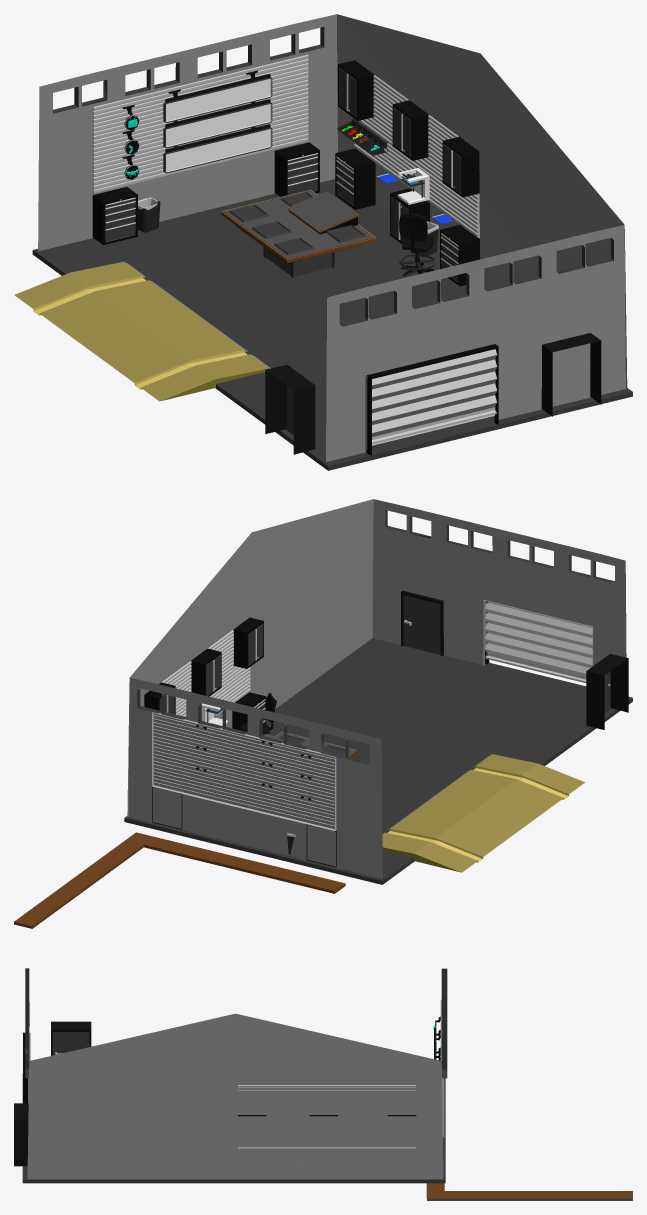
The model's file is Workshop_inside.FBX.
3 renders of one model, top to bottom at view 1: azimuth 30°, elevation 25°; view 2: azimuth 150°, elevation 25°; view 3: azimuth 270°, elevation 25°, orthographic. The views are drawn at different scales.
Parts seen in each view (by area): view 1: Object001, Workshop, Box009, Box004, Object002, Box036, Box037, Box035, Box016, Box022, Box011, Box013 (+10 smaller); view 2: Object001, Workshop, Box009, Box015, Box004, Box013, Box003, Box012; view 3: Object001, Workshop, Box015, Box004.
Boxes of the visible parts, x1,y1,x2,y2 form: Object001: (38,14,627,461); Workshop: (14,179,632,470); Box009: (93,54,308,193); Box004: (354,75,479,238); Object002: (221,189,376,263); Box036: (163,99,272,148); Box037: (163,124,272,173); Box035: (163,74,272,122); Box016: (92,187,137,244); Box022: (274,142,319,196); Box011: (335,148,375,209); Box013: (442,136,479,197); Object001: (127,499,626,878); Workshop: (124,590,632,884); Box009: (152,712,336,830); Box015: (14,832,345,928); Box004: (161,630,250,717); Box013: (233,617,263,668); Box003: (191,648,221,696); Box012: (232,692,266,730); Object001: (25,968,447,1179); Workshop: (14,1021,445,1183); Box015: (426,1183,632,1200); Box004: (238,1085,415,1148).
Size of the model in its own units: 5382 by 3706 by 11155.
